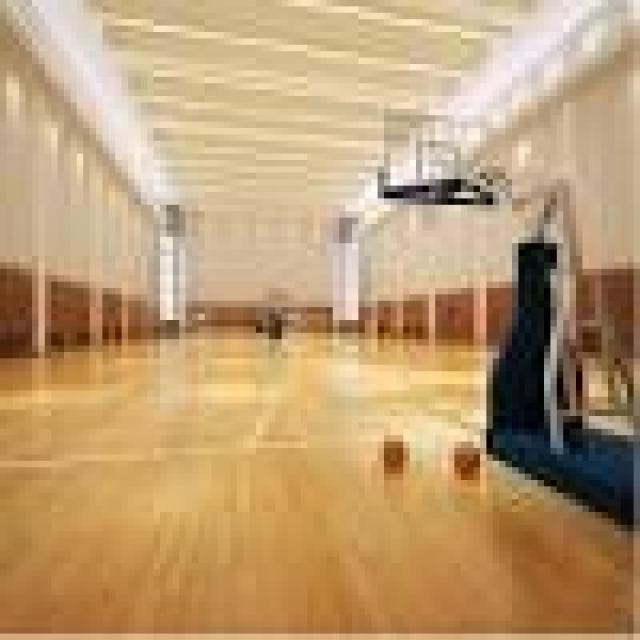rim: (448, 442, 480, 480), (384, 435, 410, 467)
